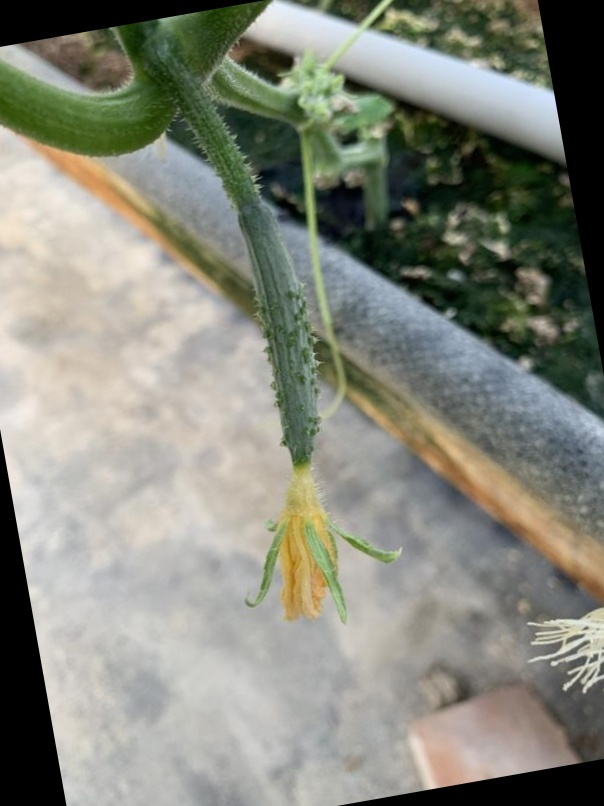bear: (209, 189, 388, 633)
